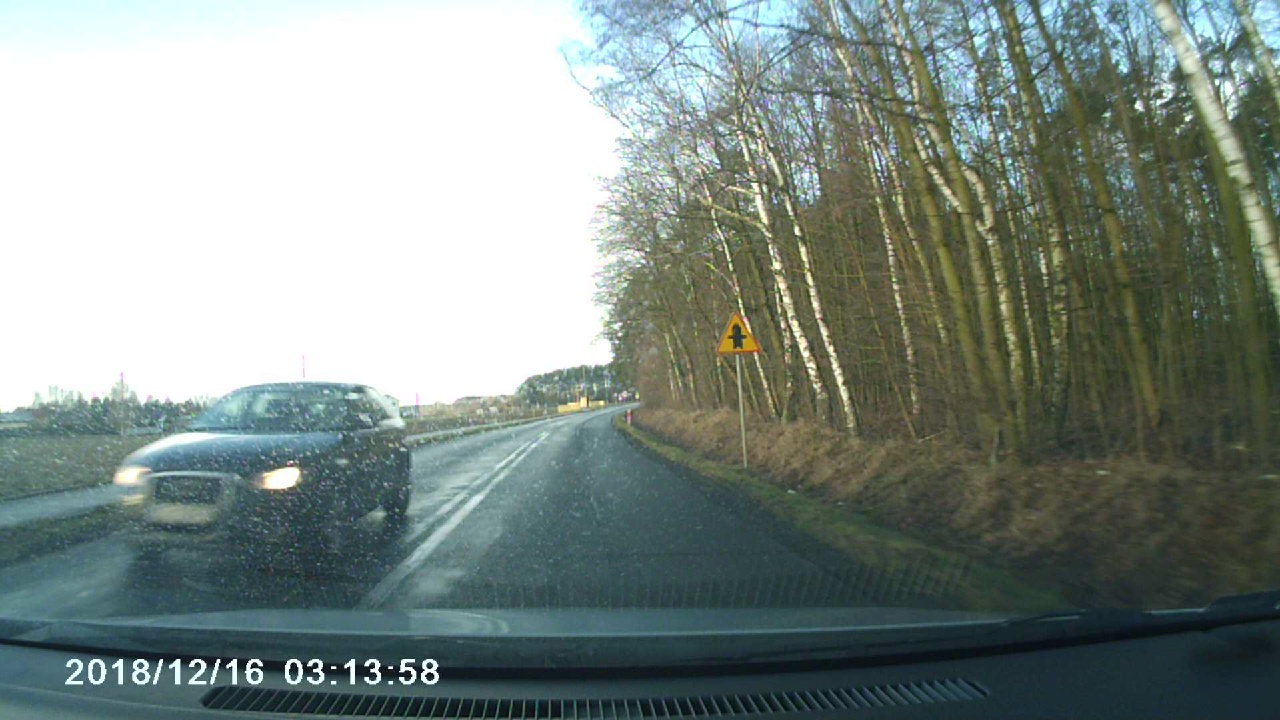A6a: (717, 313, 760, 354)
